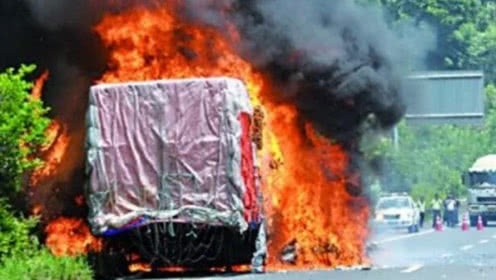fire: (195, 15, 389, 269), (15, 73, 95, 249), (90, 2, 255, 82)
